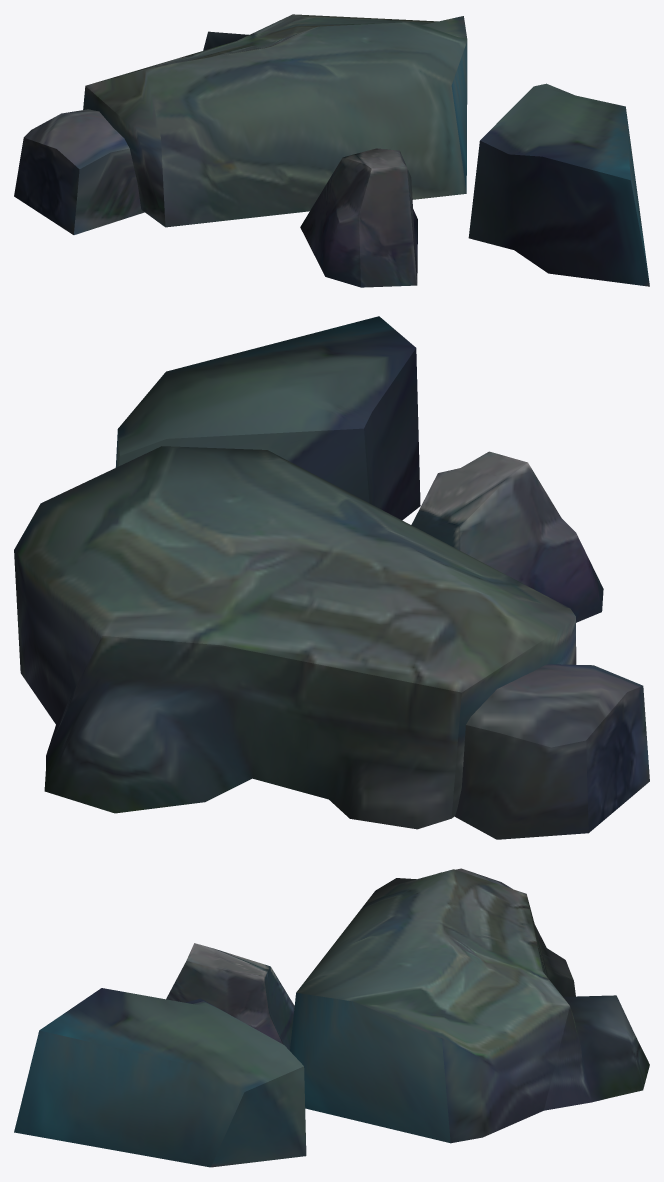
File: FB1_shanshi02.FBX
3 renders of one model, top to bottom at view 1: azimuth 30°, elevation 25°; view 2: azimuth 150°, elevation 25°; view 3: azimuth 270°, elevation 25°, orthographic. The views are drawn at different scales.
Visible parts, largest first — view 1: FB1_shanshi02; view 2: FB1_shanshi02; view 3: FB1_shanshi02.
Part boxes in pixels (x1=…): FB1_shanshi02: x1=14, y1=14, x2=649, y2=287; FB1_shanshi02: x1=14, y1=316, x2=649, y2=839; FB1_shanshi02: x1=14, y1=868, x2=649, y2=1167.
Size of the model in its own units: 147047 by 40088 by 175789.
1 material, 1 textured.
